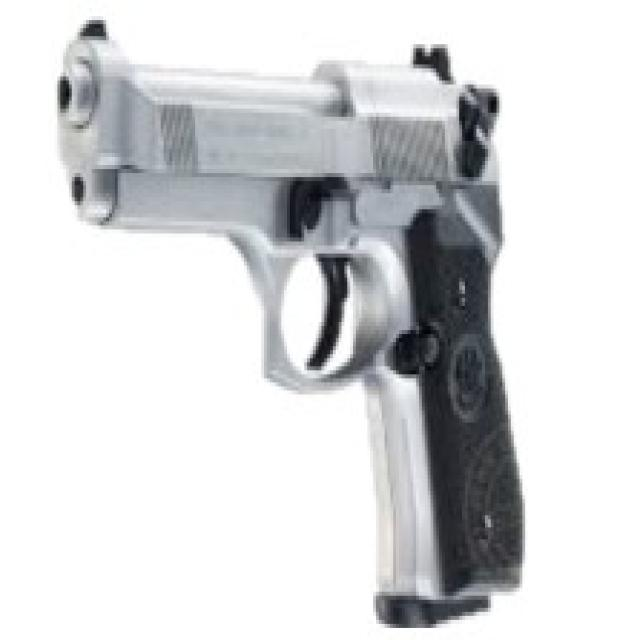pistol: (54, 10, 546, 640)
